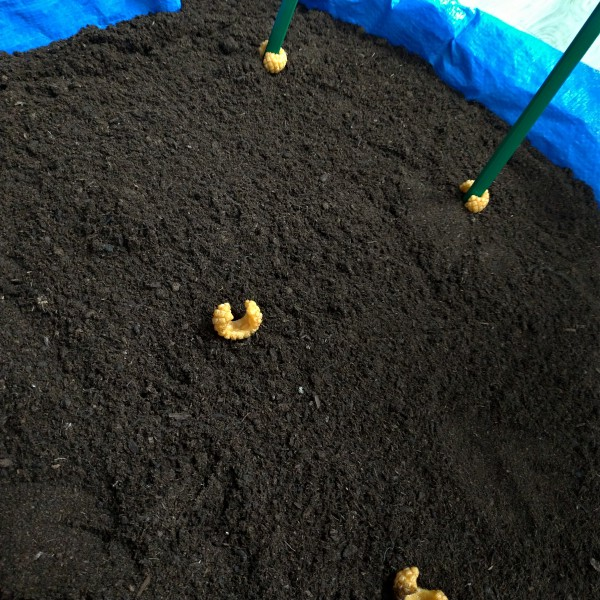eggs: (386, 563, 456, 600), (208, 300, 265, 343), (256, 33, 293, 73), (457, 174, 491, 215)
